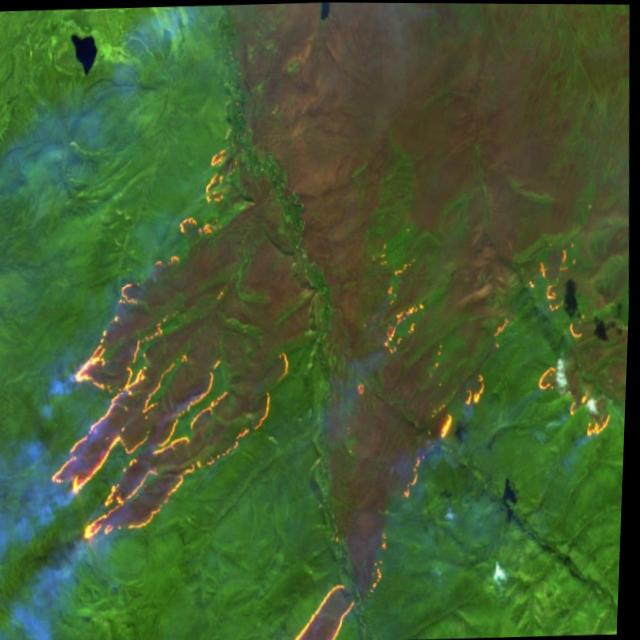fire: (38, 142, 306, 556), (346, 232, 617, 448), (286, 558, 393, 640)
